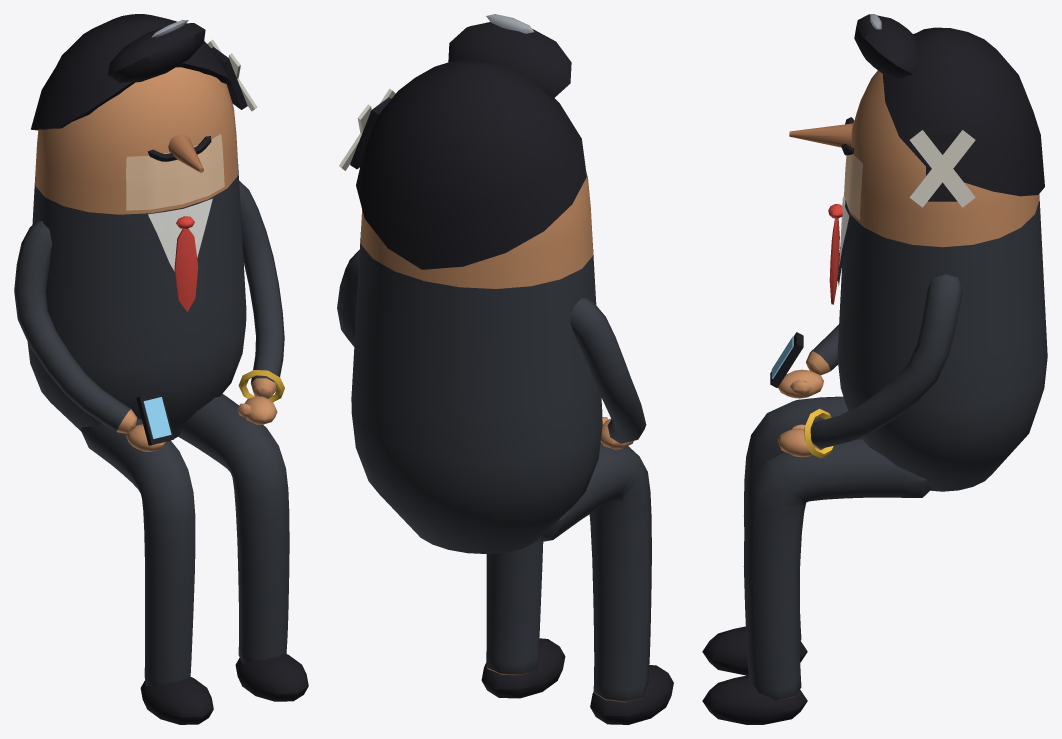
The model's file is VivoEjecutivo.fbx.
3 renders of one model, left to right at view 1: azimuth 30°, elevation 25°; view 2: azimuth 150°, elevation 25°; view 3: azimuth 270°, elevation 25°, orthographic. The views are drawn at different scales.
Parts seen in each view (by area): view 1: Cuerpo, PiernaIzq, PiernaDer, BrazoDer, BrazoIzq, Boca; view 2: Cuerpo, PiernaDer, PiernaIzq, BrazoDer, BrazoIzq; view 3: Cuerpo, PiernaIzq, BrazoIzq, PiernaDer, BrazoDer, Boca.
Boxes of the visible parts, left/top/right/bottom form: Cuerpo: left=27, top=14, right=256, bottom=438; PiernaIzq: left=178, top=394, right=308, bottom=701; PiernaDer: left=80, top=418, right=213, bottom=724; BrazoDer: left=14, top=220, right=174, bottom=451; BrazoIzq: left=237, top=180, right=284, bottom=424; Boca: left=126, top=134, right=224, bottom=210; Cuerpo: left=339, top=14, right=602, bottom=553; PiernaDer: left=534, top=442, right=673, bottom=724; PiernaIzq: left=481, top=542, right=565, bottom=698; BrazoDer: left=570, top=298, right=646, bottom=449; BrazoIzq: left=337, top=249, right=359, bottom=346; Cuerpo: left=789, top=14, right=1047, bottom=491; PiernaIzq: left=702, top=438, right=931, bottom=724; BrazoIzq: left=778, top=274, right=962, bottom=458; PiernaDer: left=702, top=396, right=859, bottom=675; BrazoDer: left=770, top=324, right=838, bottom=398; Boca: left=844, top=145, right=862, bottom=220.
Size of the model in its own units: 2.11 by 5.09 by 2.35.
Materials: 2 (1 with a texture image).
